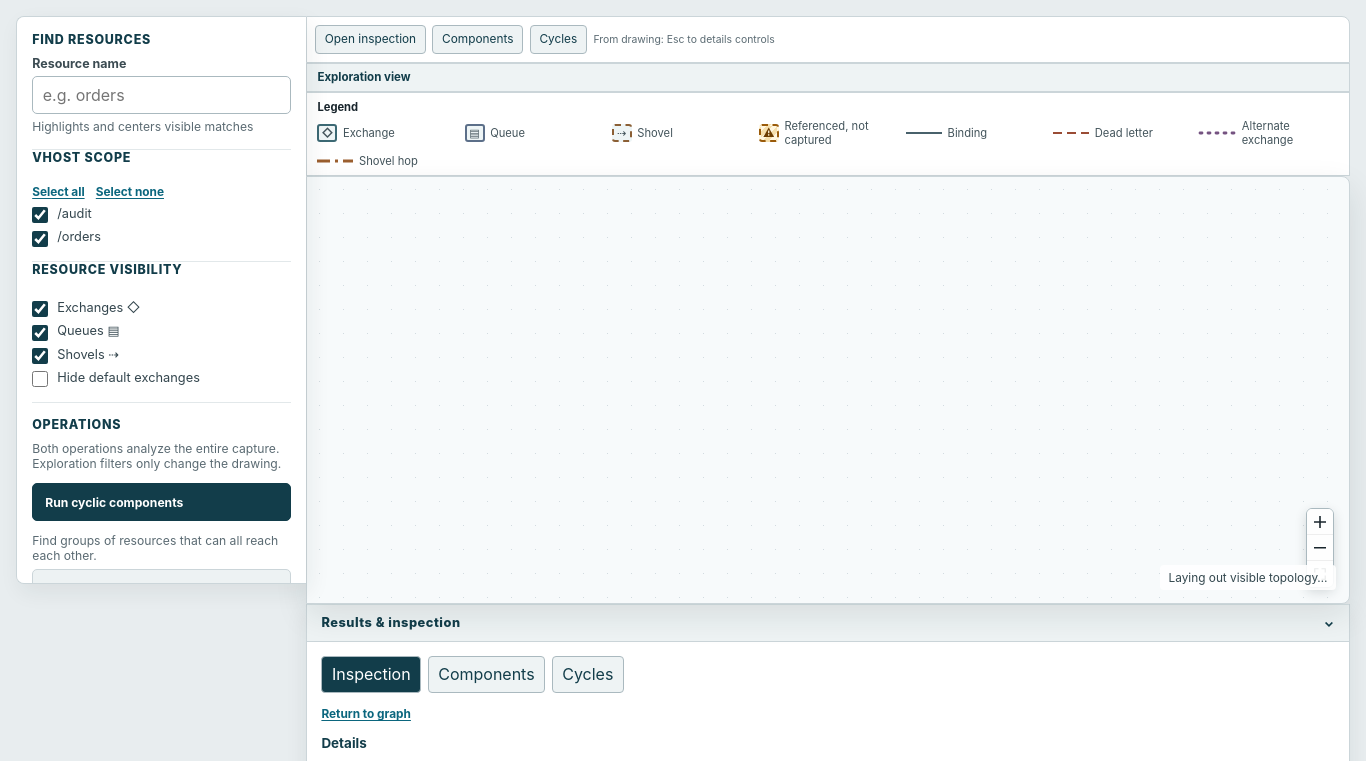
Test: TopologyExplorer › shows an explicit empty state when no vhost is selected
This screenshot has width=1366, height=761.
Click the button "Select none": {"x": 130, "y": 192} [96,185,164,199]
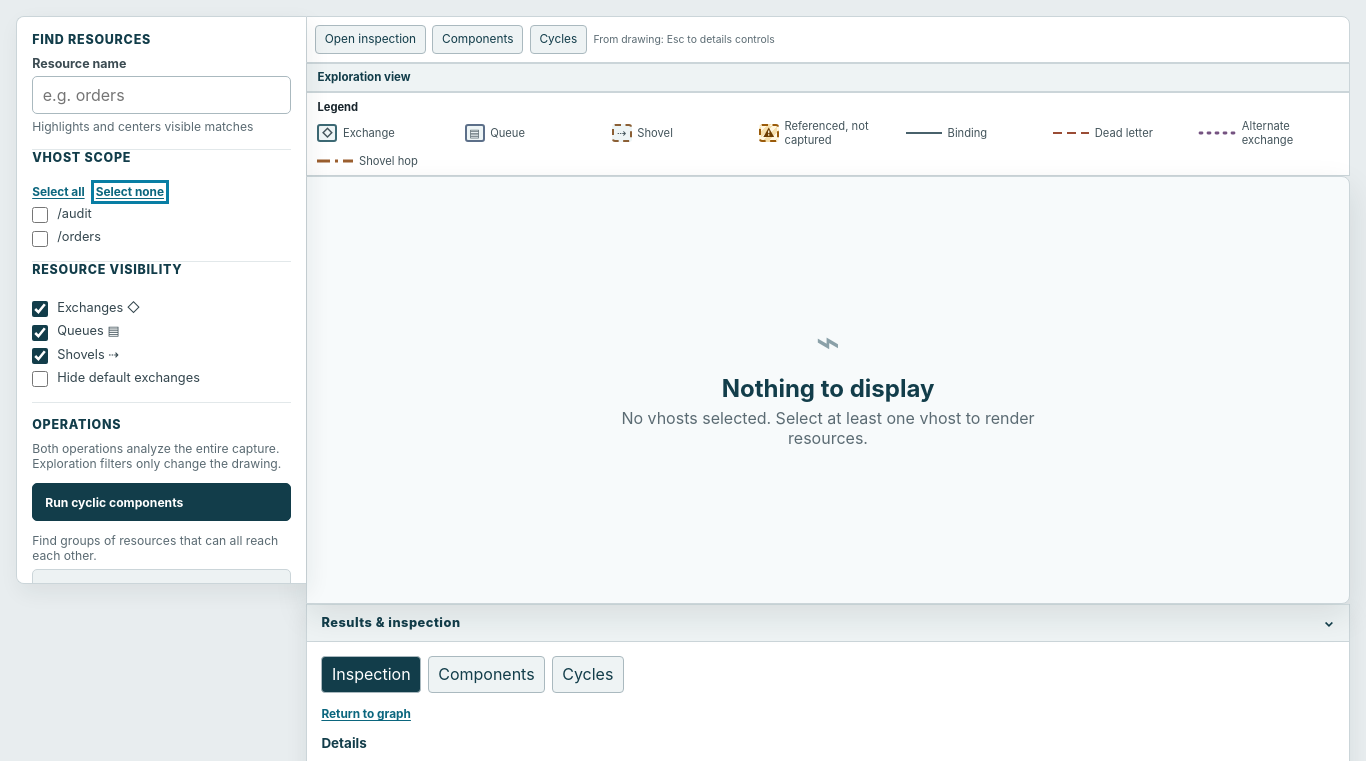
Result: the text "No vhosts selected. Select at least one vhost to render resources." is shown at [608,408,1048,448]
